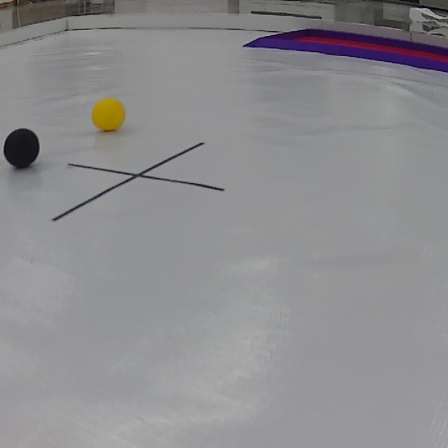black: (2, 124, 43, 167)
red_aim: (251, 25, 448, 77)
yellow: (91, 96, 126, 132)
